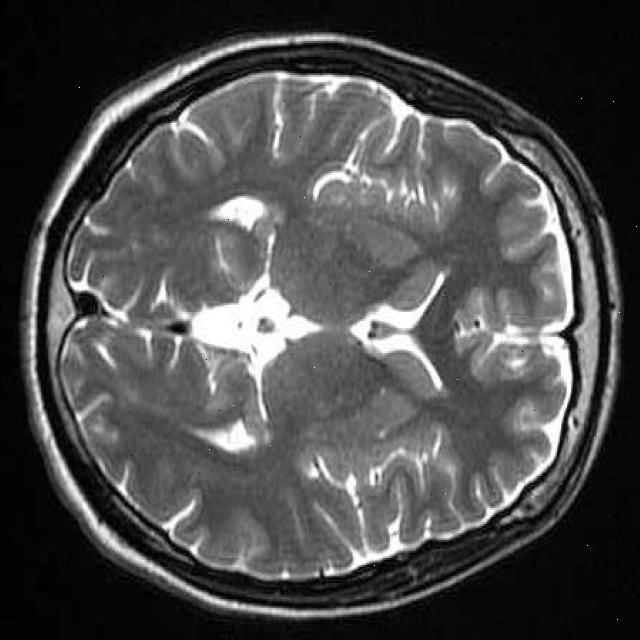No_Tumor: (23, 35, 620, 617)
